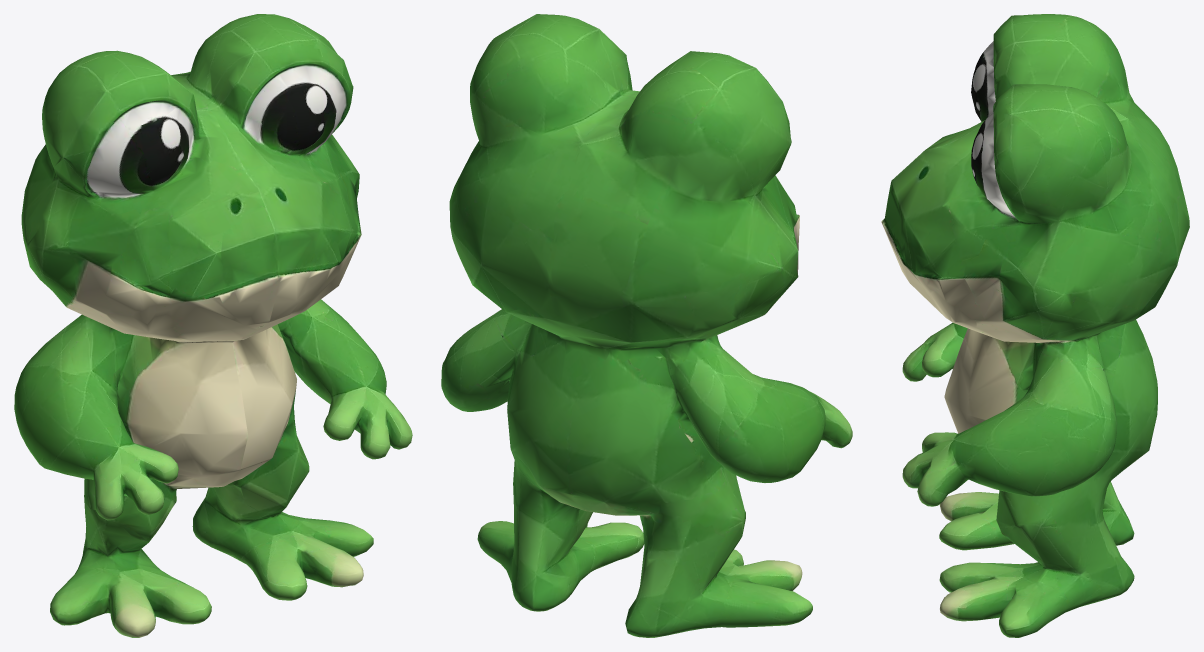
File: froggy-jump.glb
3 views of the same model, side by side, from view 1: azimuth 30°, elevation 25°; view 2: azimuth 150°, elevation 25°; view 3: azimuth 270°, elevation 25° (orthographic). The views are drawn at different scales.
Bounding box in the file's own units: 1.23 × 1.9 × 1.03.
1 material, 1 textured.
